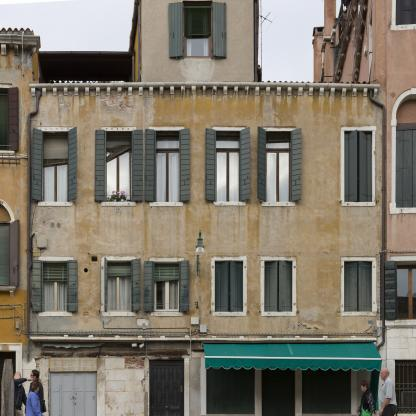Building Outline: (29, 0, 385, 416)
Door: (49, 372, 97, 416), (149, 360, 184, 416), (262, 370, 295, 416)
Facade: (29, 1, 385, 416)
Floor: (29, 102, 385, 235), (29, 234, 385, 338)
Floor Slab: (29, 95, 385, 102), (29, 228, 385, 235), (29, 332, 385, 338)
Molding: (28, 81, 380, 97), (30, 335, 377, 341)
Top Floor: (141, 1, 257, 102)
Window: (206, 369, 255, 414), (302, 371, 351, 414), (153, 131, 181, 202), (105, 131, 133, 202), (42, 131, 69, 202), (345, 131, 372, 202), (265, 131, 292, 202), (215, 131, 242, 202), (183, 1, 213, 58), (42, 260, 70, 312), (105, 260, 133, 312), (344, 261, 372, 312), (153, 261, 181, 312), (215, 261, 243, 312), (265, 261, 293, 312)
